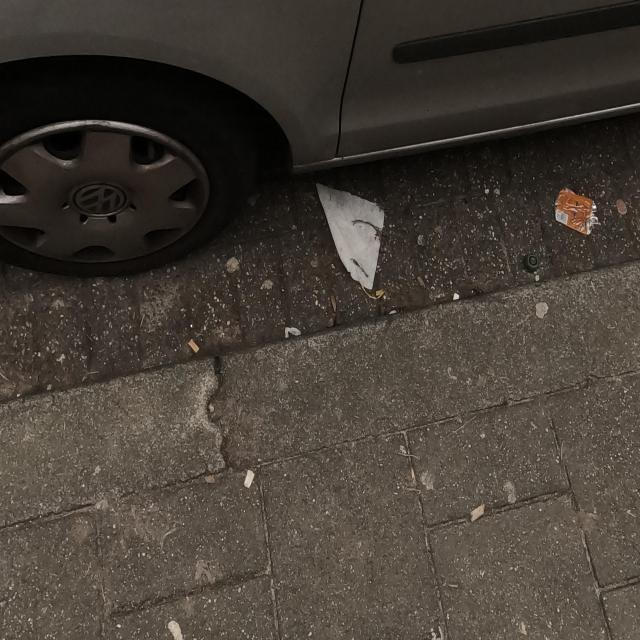Can-Metal: (554, 184, 600, 237)
